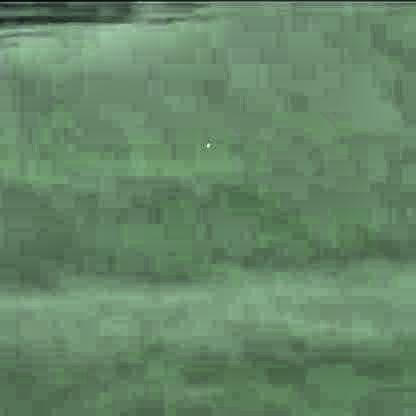golfball: (204, 137, 209, 147)
